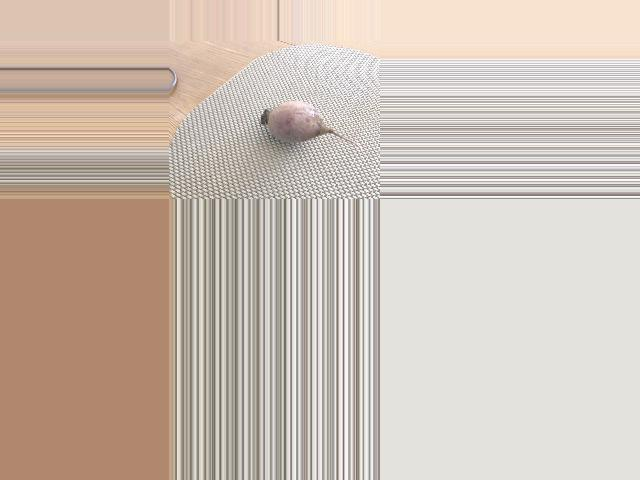beet: (259, 101, 362, 152)
